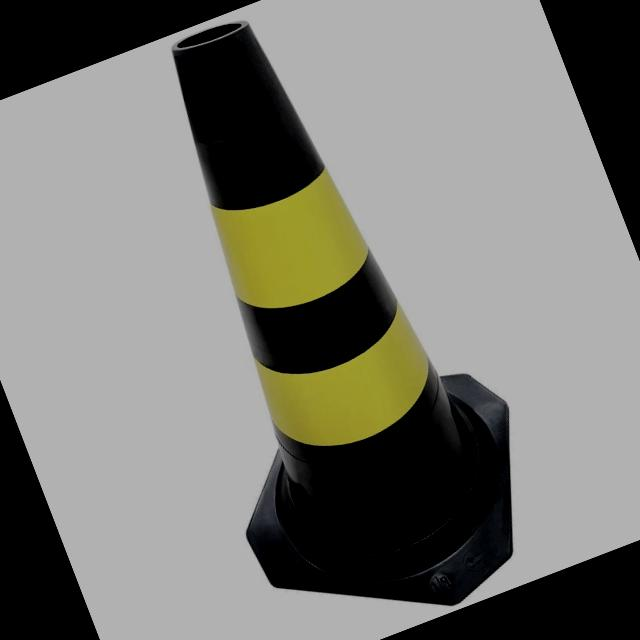cone: (112, 0, 546, 624)
